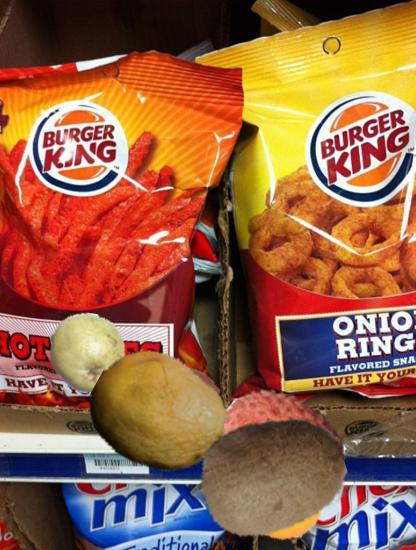Grapefruit: (145, 365, 223, 443)
Kiwi: (196, 400, 346, 550)
Lemon: (220, 432, 335, 547)
Lychee: (214, 383, 345, 514)
Papaya: (90, 344, 227, 481)
Pear: (47, 313, 127, 393)
